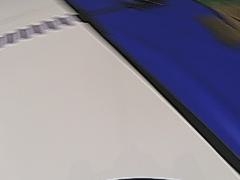CrossWalk: (0, 12, 86, 48)
